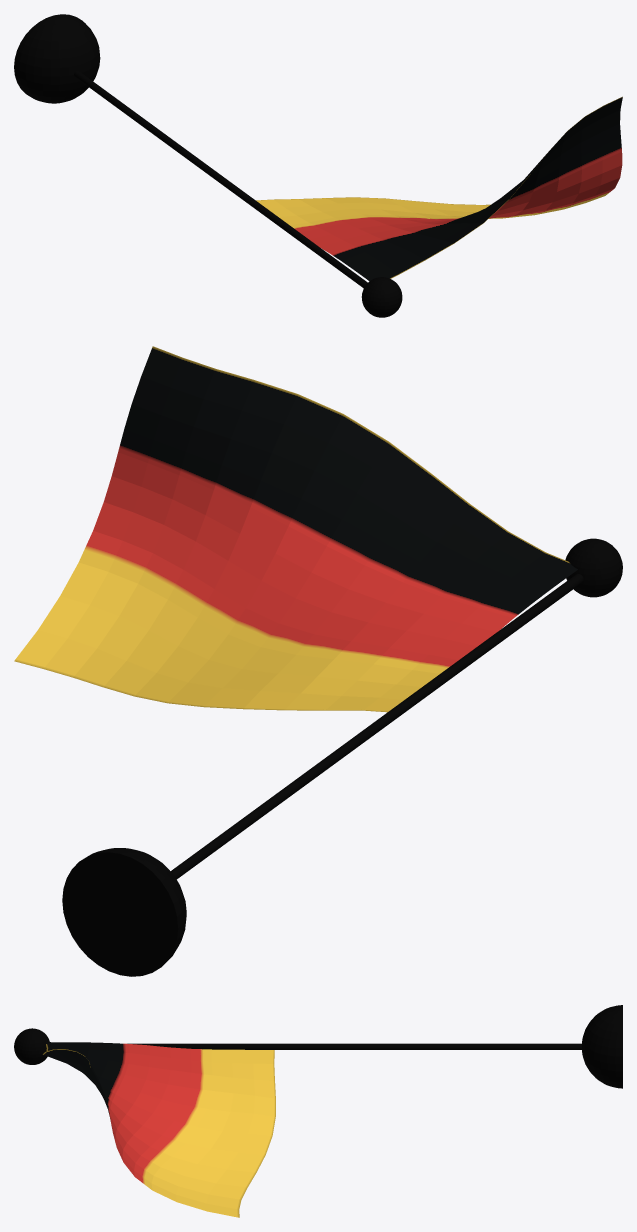
File: germany.glb
The picture shows the model from 3 angles, top to bottom: view 1: azimuth 30°, elevation 25°; view 2: azimuth 150°, elevation 25°; view 3: azimuth 270°, elevation 25°; orthographic projection. The views are drawn at different scales.
Visible parts, largest first — view 1: Plane.009, Sphere.032, Cylinder.007, Sphere.033; view 2: Plane.009, Sphere.032, Cylinder.007, Sphere.033; view 3: Plane.009, Cylinder.007, Sphere.032, Sphere.033.
Part boxes in pixels (x1,y1,x2,y2): Plane.009: (256,96,622,281); Sphere.032: (14,14,100,103); Cylinder.007: (74,70,367,288); Sphere.033: (361,277,402,317); Plane.009: (14,346,577,712); Sphere.032: (62,848,186,976); Cylinder.007: (170,573,583,879); Sphere.033: (565,538,622,597); Plane.009: (43,1042,275,1217); Cylinder.007: (127,1043,581,1049); Sphere.032: (582,1005,622,1088); Sphere.033: (14,1028,49,1064).
Bounding box in the file's own units: 0.9424 × 0.4405 × 1.67.
Materials: 2 (1 with a texture image).
